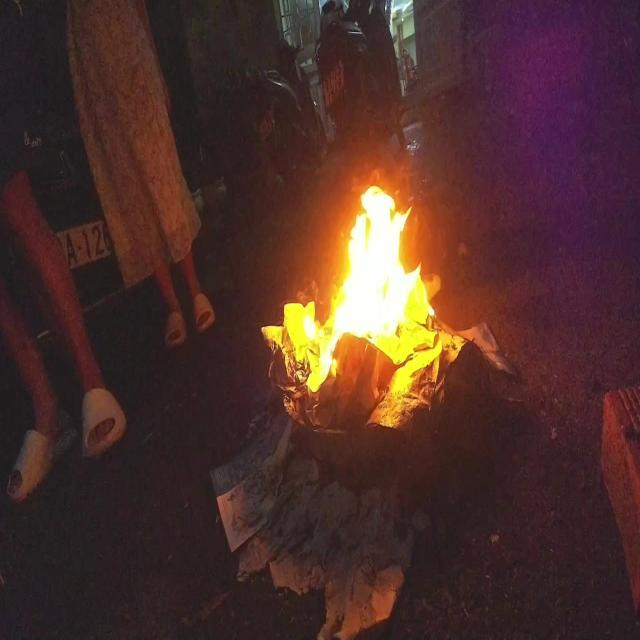Fire: (264, 178, 456, 434)
